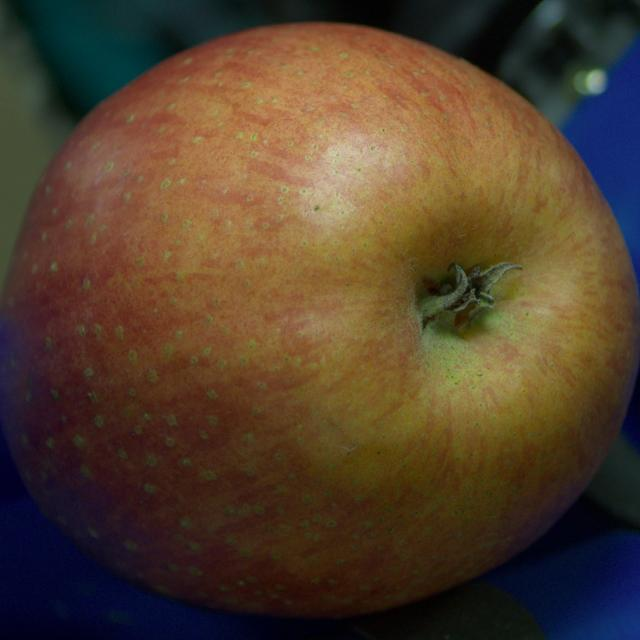apple: (0, 24, 639, 617)
